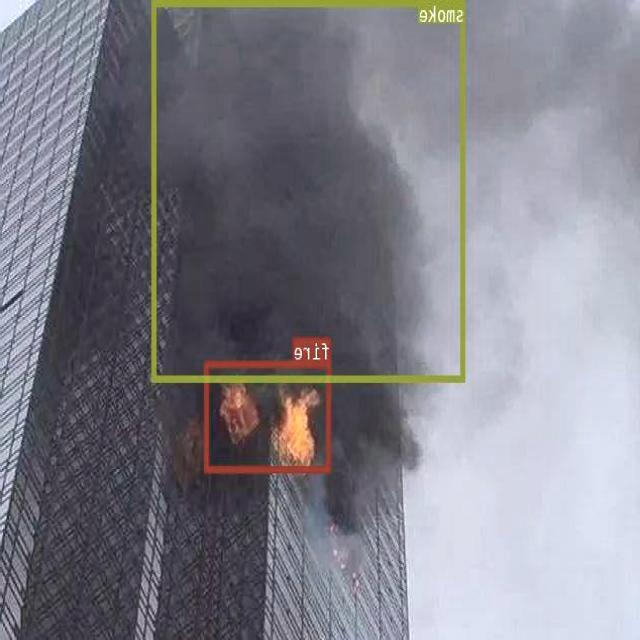fire: (206, 360, 332, 470)
smoke: (153, 0, 467, 381)
